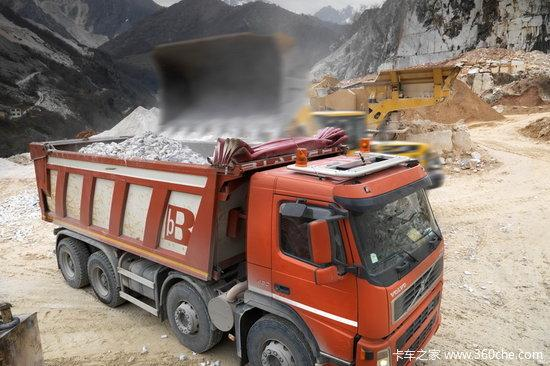truck: (24, 103, 454, 366)
